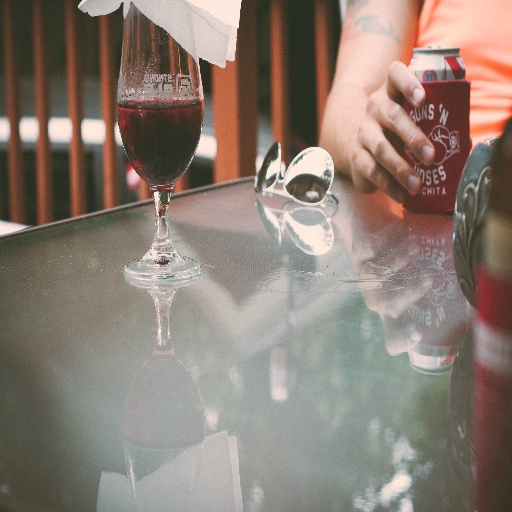hand: (330, 43, 470, 207)
